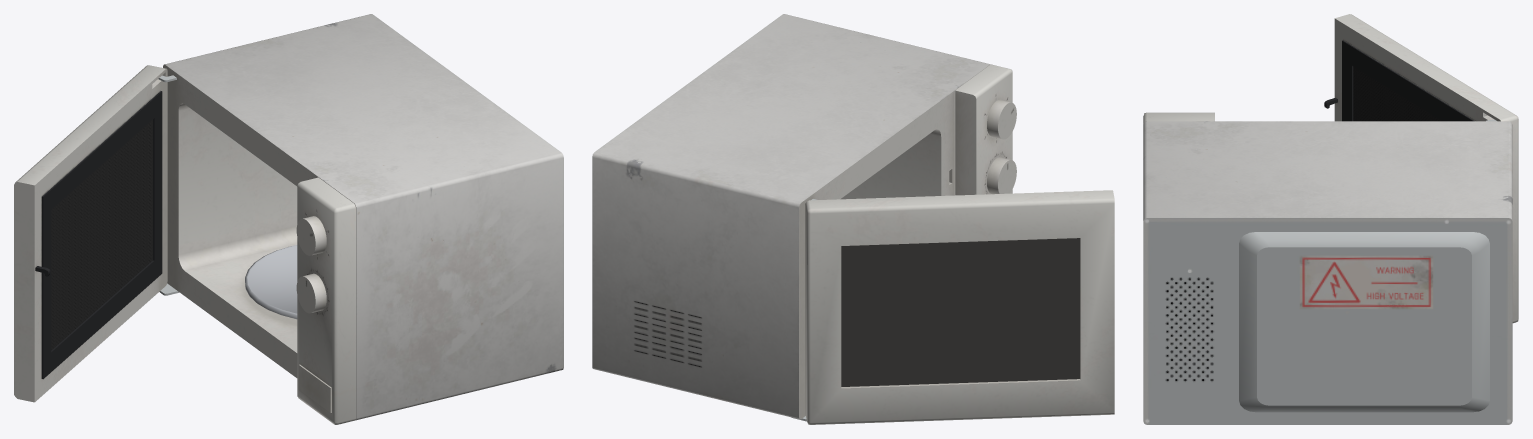
File: Microwave.fbx
The picture shows the model from 3 angles, left to right: view 1: azimuth 30°, elevation 25°; view 2: azimuth 150°, elevation 25°; view 3: azimuth 270°, elevation 25°; orthographic projection. The views are drawn at different scales.
Parts seen in each view (by area): view 1: Oven, Door, Plate; view 2: Oven, Door; view 3: Oven, Door.
Boxes of the visible parts, x1,y1,x2,y2 form: Oven: (158,14,563,424); Door: (14,65,167,402); Plate: (245,245,297,319); Oven: (592,14,1016,421); Door: (805,190,1114,424); Oven: (1143,112,1512,424); Door: (1324,14,1518,323).
Bounding box in the file's own units: 593 × 279 × 450.
Materials: 1 (1 with a texture image).
